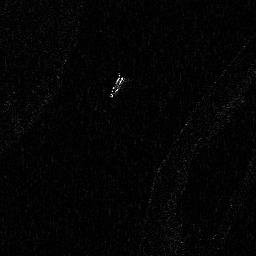ship: (109, 74, 124, 98)
